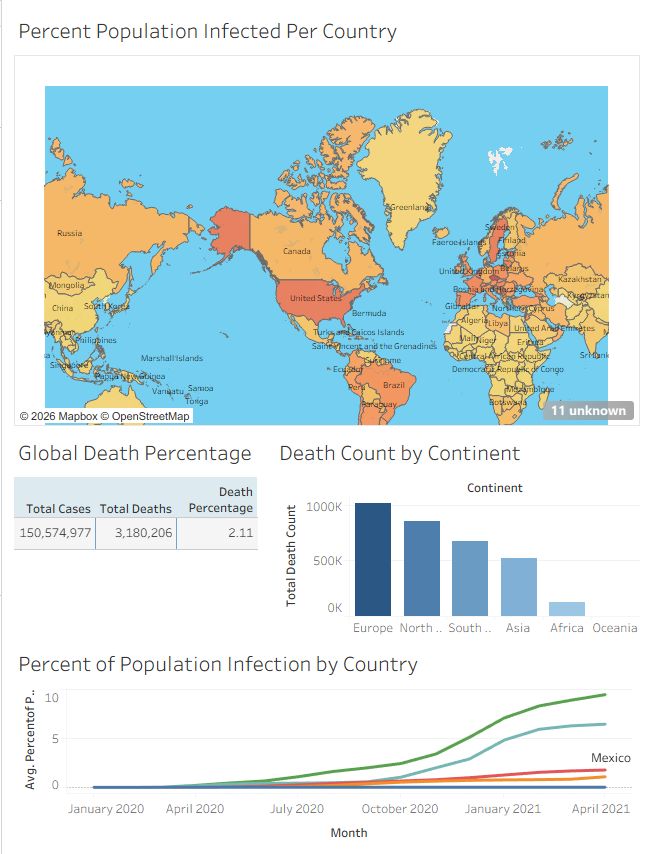

What the dashboard file says about the page in this screenshot:
{"tool":"tableau","page":{"name":"Dashboard 1","canvas":[650,860],"ordinal":0},"visuals":[{"type":"worksheet","title":"Sheet 3","mark":"Automatic","box":[8,8,634,422]},{"type":"worksheet","title":"Sheet 1","mark":"Automatic","box":[8,430,261,211]},{"type":"worksheet","title":"Sheet 2","mark":"Automatic","rows":["TotalDeathCount"],"cols":["location"],"box":[269,430,373,211]},{"type":"worksheet","title":"Sheet 4","mark":"Automatic","rows":["PercentofPopulationInfected"],"cols":["date"],"box":[8,641,626.1,211]}]}

Visuals, with their boxes in screenshot pixels (x1, y1, x2, y2), scaled from the page's 650x860 canvas onto the 649x854 screenshot:
"Sheet 3" worksheet: [8, 8, 641, 427]
"Sheet 1" worksheet: [8, 427, 269, 637]
"Sheet 2" worksheet: [269, 427, 641, 637]
"Sheet 4" worksheet: [8, 637, 633, 846]
